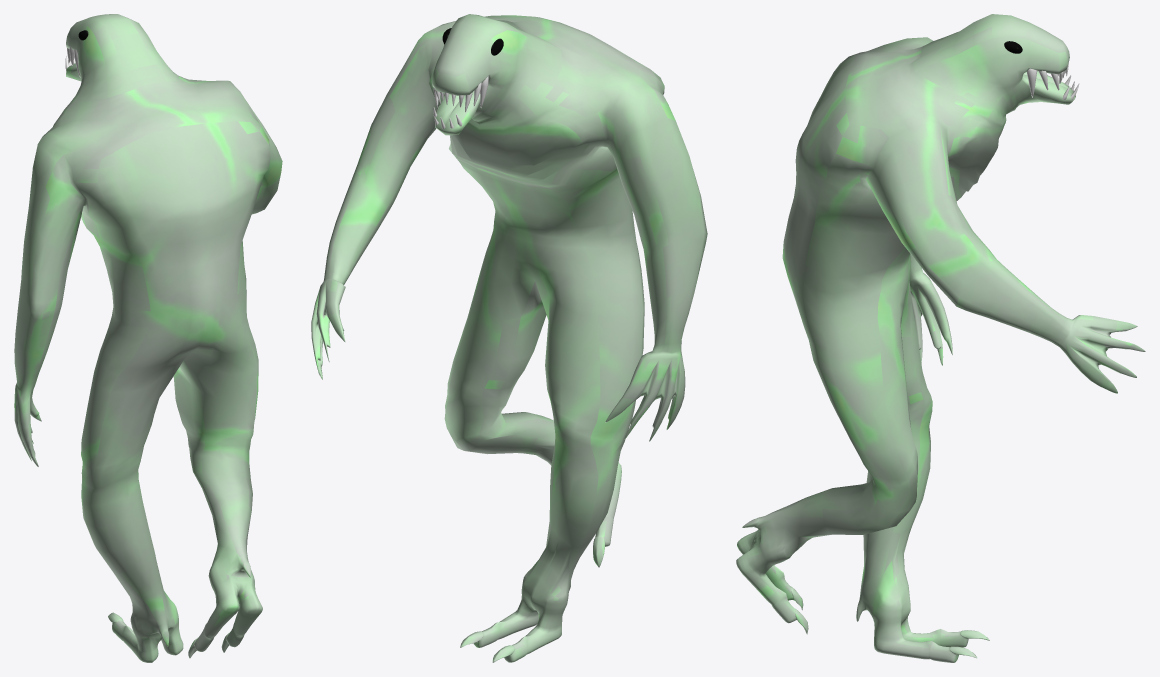
The model's file is Berserkerandar.0050.obj.
3 renders of one model, left to right at view 1: azimuth 30°, elevation 25°; view 2: azimuth 150°, elevation 25°; view 3: azimuth 270°, elevation 25°, orthographic. The views are drawn at different scales.
Parts seen in each view (by area): view 1: polySurface27; view 2: polySurface27; view 3: polySurface27.
Part boxes in pixels (<box>): polySurface27: <box>14,14,282,662</box>; polySurface27: <box>311,14,707,662</box>; polySurface27: <box>736,14,1145,662</box>.
Size of the model in its own units: 11.37 by 23.55 by 13.75.
Materials: 1 (1 with a texture image).
